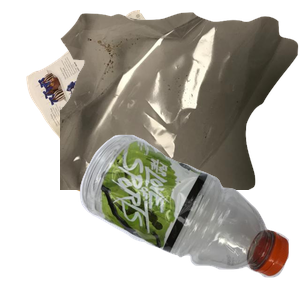glass: (60, 166, 241, 300)
paper: (24, 10, 235, 190)
plastic: (77, 132, 300, 300)
trash: (60, 10, 300, 190)
